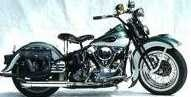motorcycle: (1, 3, 187, 96)
